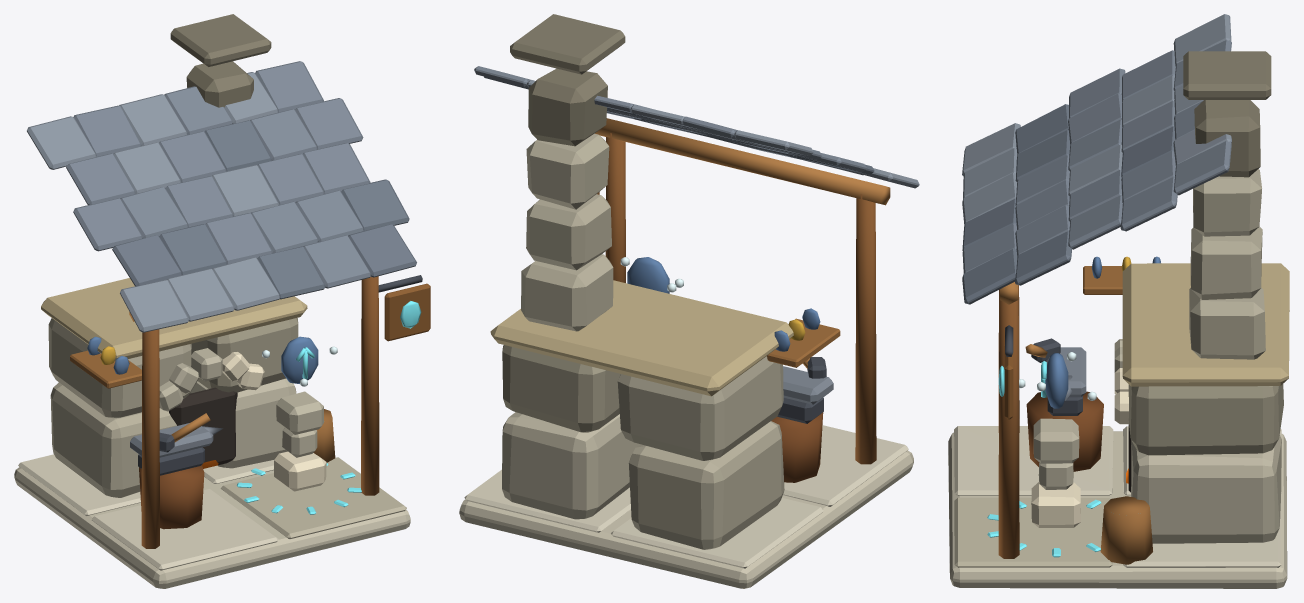
Rendered from atelier-forge.glb.
The picture shows the model from 3 angles, left to right: view 1: azimuth 30°, elevation 25°; view 2: azimuth 150°, elevation 25°; view 3: azimuth 270°, elevation 25°; orthographic projection. The views are drawn at different scales.
Parts seen in each view (by area): view 1: socle, linteau, forge, pave.003, pave.002, forge.002, poteau.001, poteau, forge.001, forge.003, cheminee_haut, foyer (+47 smaller); view 2: linteau, forge, forge.001, forge.002, socle, forge.003, poutre, poteau, cheminee, cheminee.001, cheminee.003, cheminee.002 (+11 smaller); view 3: linteau, forge.001, forge.003, socle, pave.003, pave.002, cheminee, cheminee.001, poteau.001, cheminee_haut, cheminee.002, cheminee.003 (+41 smaller).
Part boxes in pixels (x1,y1,x2,y2): socle: [14, 467, 410, 588]; linteau: [41, 278, 307, 361]; forge: [50, 382, 176, 497]; pave.003: [220, 457, 406, 538]; pave.002: [92, 489, 278, 570]; forge.002: [48, 318, 191, 418]; poteau.001: [361, 276, 379, 495]; poteau: [141, 329, 159, 548]; forge.001: [190, 378, 296, 468]; forge.003: [191, 318, 298, 392]; cheminee_haut: [170, 14, 271, 66]; foyer: [169, 387, 237, 465]; linteau: [490, 280, 793, 396]; forge: [628, 421, 784, 549]; forge.001: [502, 412, 639, 519]; forge.002: [617, 356, 783, 460]; socle: [459, 450, 913, 588]; forge.003: [502, 345, 620, 432]; poutre: [595, 118, 890, 205]; poteau: [855, 194, 876, 464]; cheminee: [521, 254, 613, 331]; cheminee.001: [526, 194, 611, 270]; cheminee.003: [528, 68, 607, 146]; cheminee.002: [526, 133, 609, 209]; linteau: [1122, 263, 1289, 386]; forge.001: [1131, 435, 1281, 543]; forge.003: [1128, 384, 1283, 455]; socle: [948, 431, 1287, 588]; pave.003: [954, 497, 1112, 567]; pave.002: [954, 426, 1113, 495]; cheminee: [1189, 288, 1265, 359]; cheminee.001: [1190, 226, 1262, 299]; poteau.001: [998, 285, 1019, 558]; cheminee_haut: [1183, 51, 1271, 99]; cheminee.002: [1193, 169, 1261, 236]; cheminee.003: [1194, 100, 1260, 177].
Bounding box in the file's own units: 2.31 × 3.04 × 1.94.
